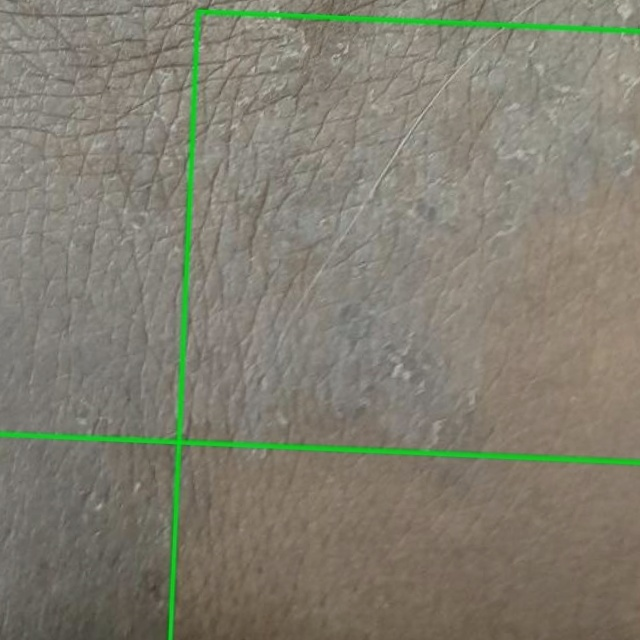Eczema: (0, 0, 639, 462), (170, 11, 639, 639)
